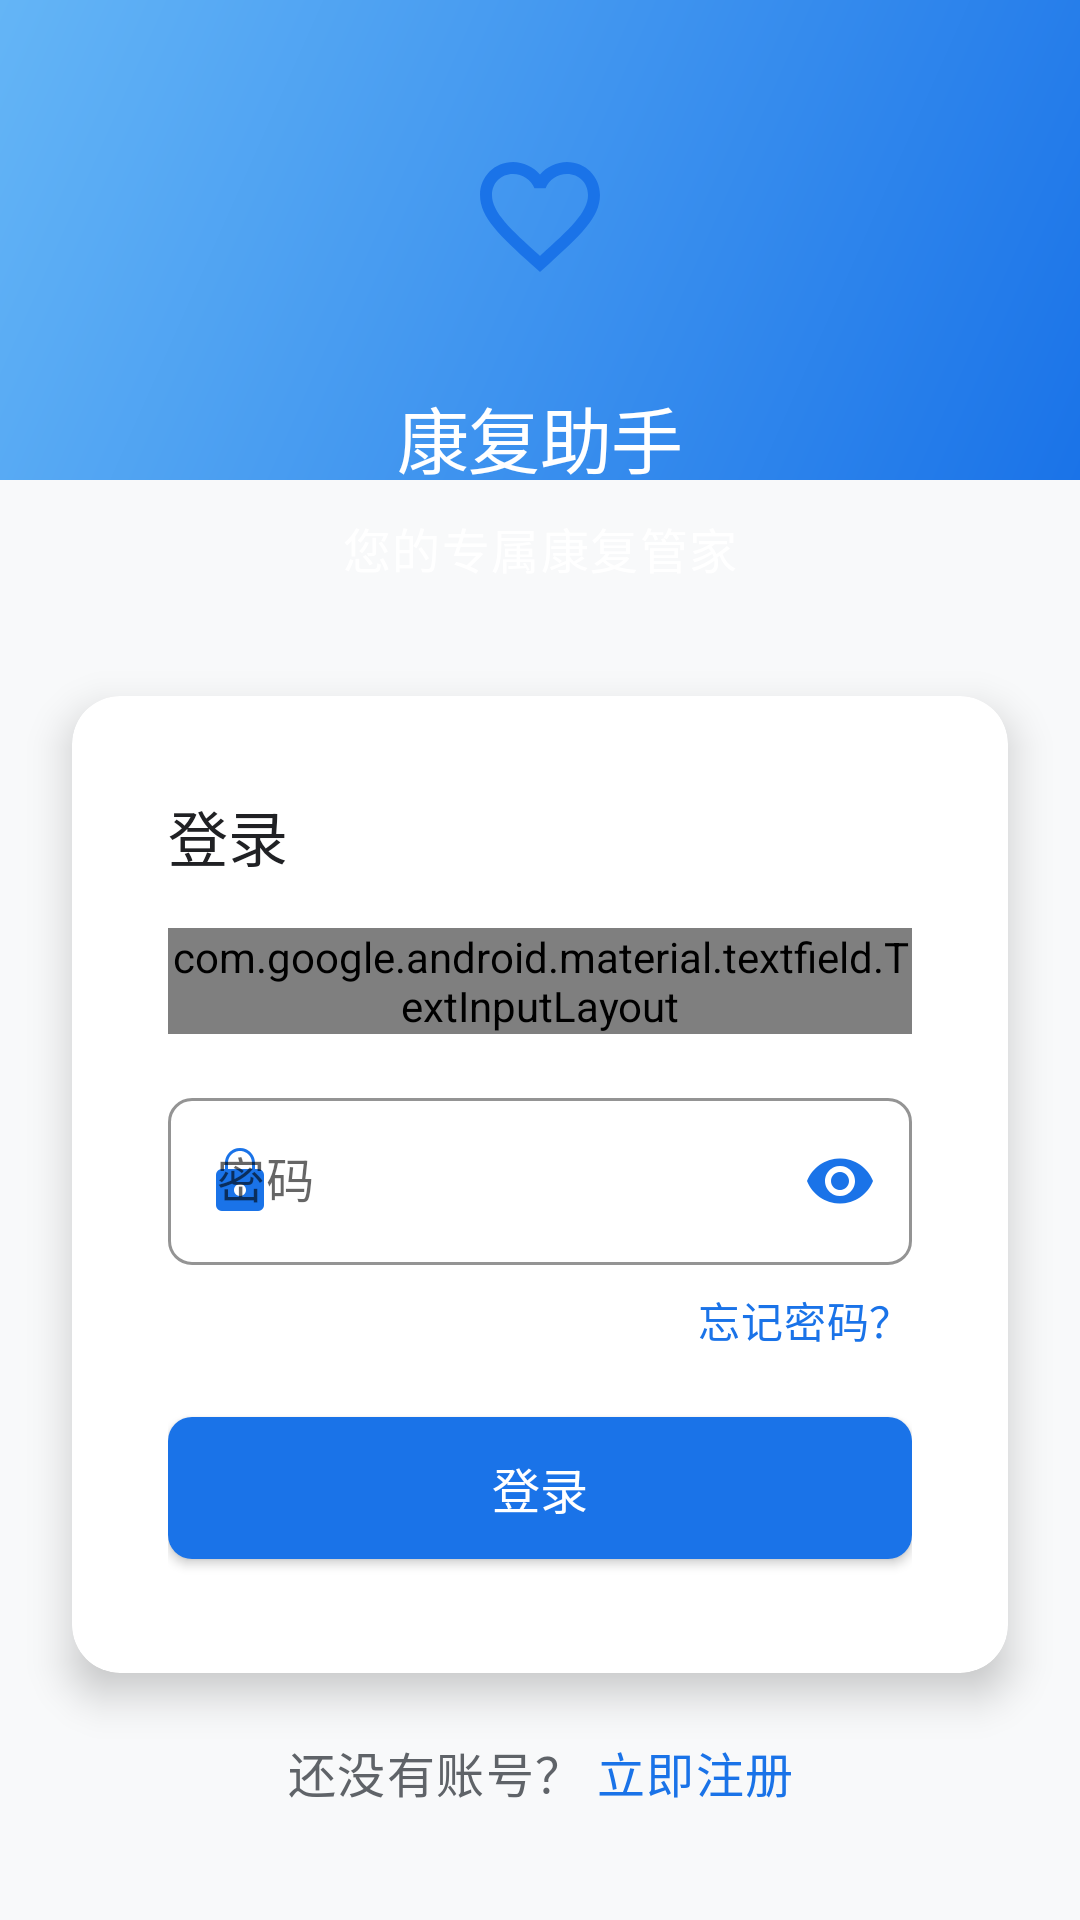

Icons on this 1080*1920 Android screen, each with its box as (x1, y1, x2, y2):
health: (480, 162, 600, 272)
